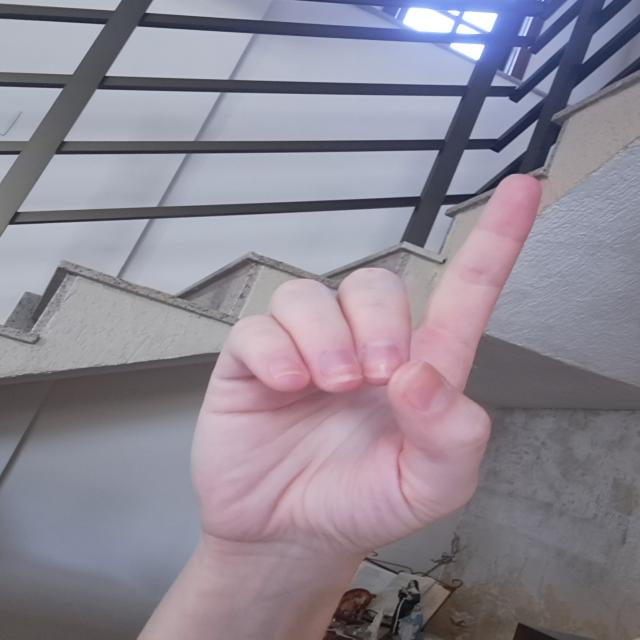D2: (198, 155, 552, 570)
